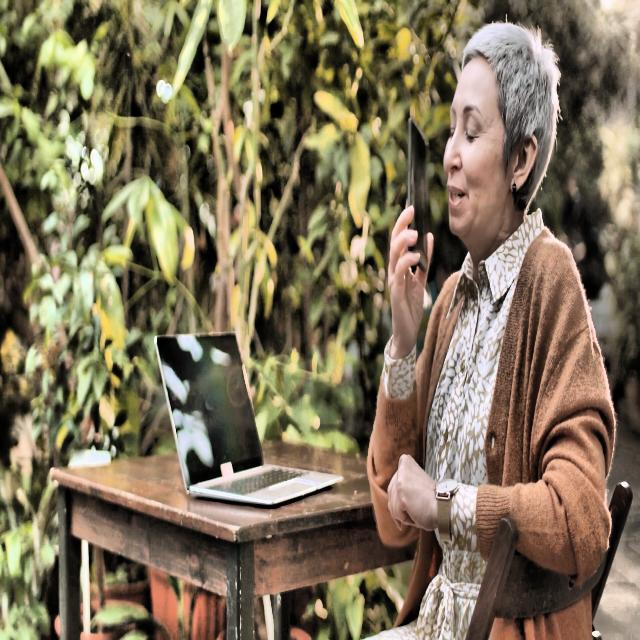Phone: (406, 113, 428, 275)
